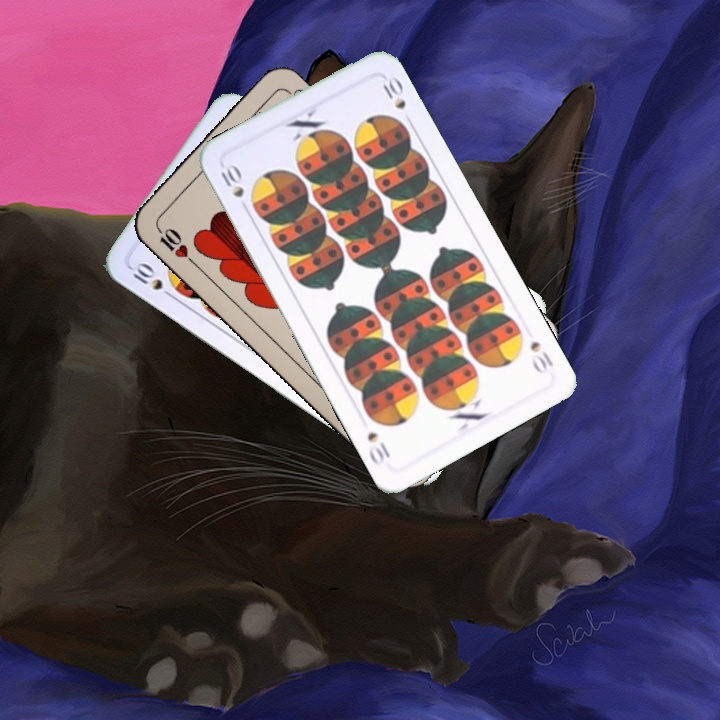H10: (152, 221, 198, 267)
S10: (127, 259, 178, 302), (216, 160, 247, 201), (526, 336, 556, 377)
